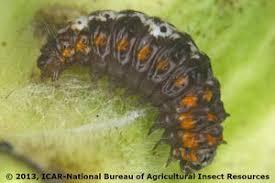insect: (32, 5, 232, 176)
